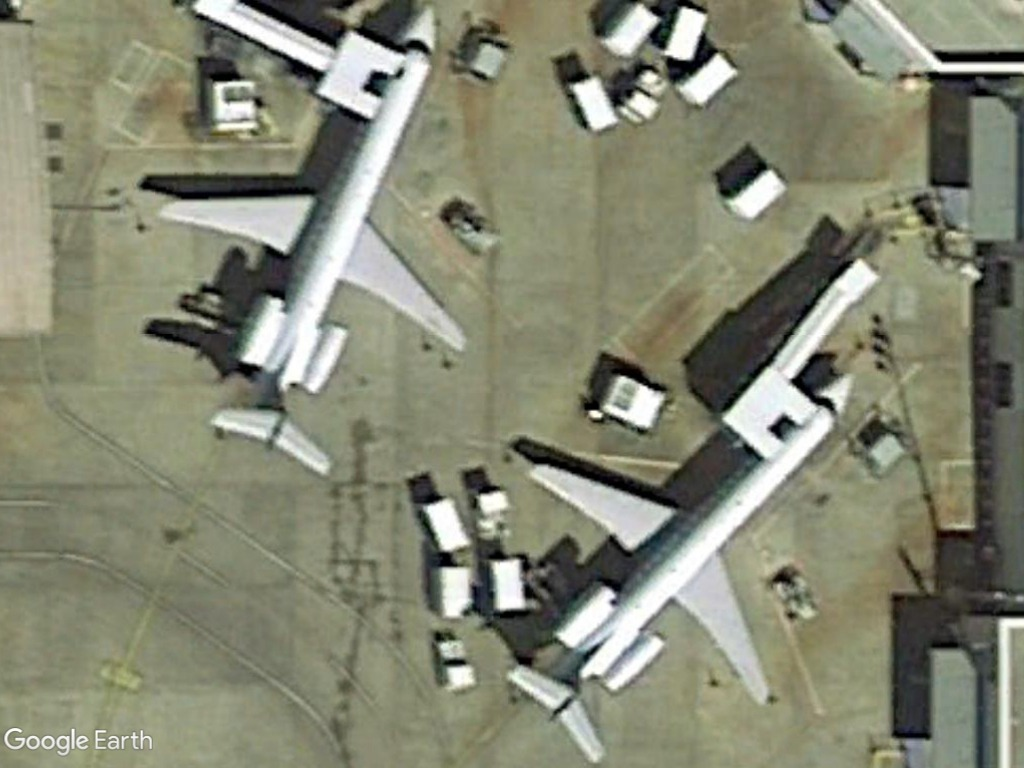chartered: (148, 0, 475, 485), (504, 368, 864, 766)
